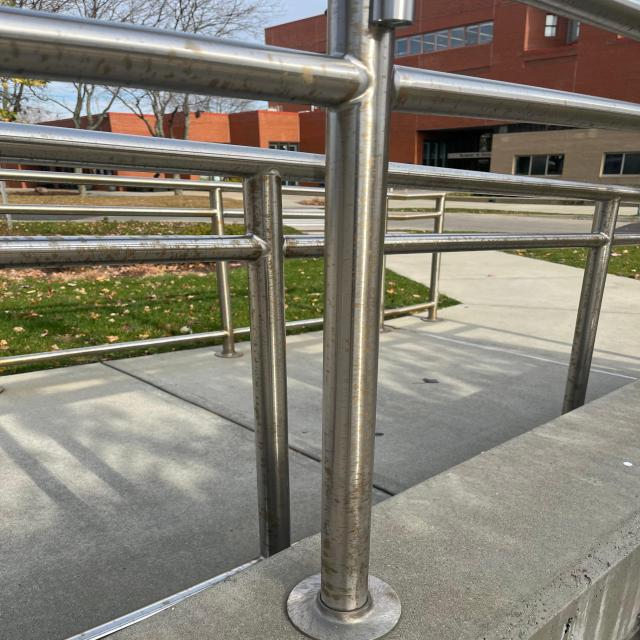Uniform Corrosion: (1, 1, 412, 640), (396, 68, 640, 126)
